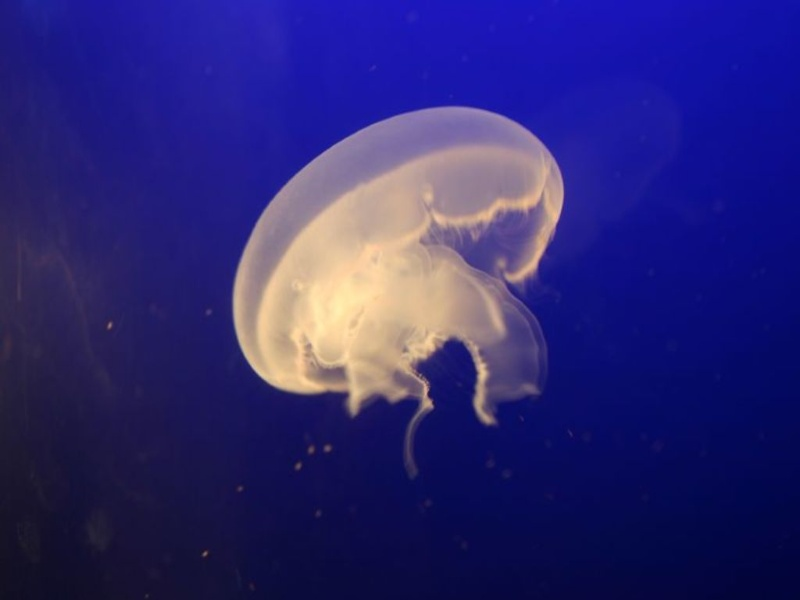Jellyfish: (234, 110, 579, 460)
